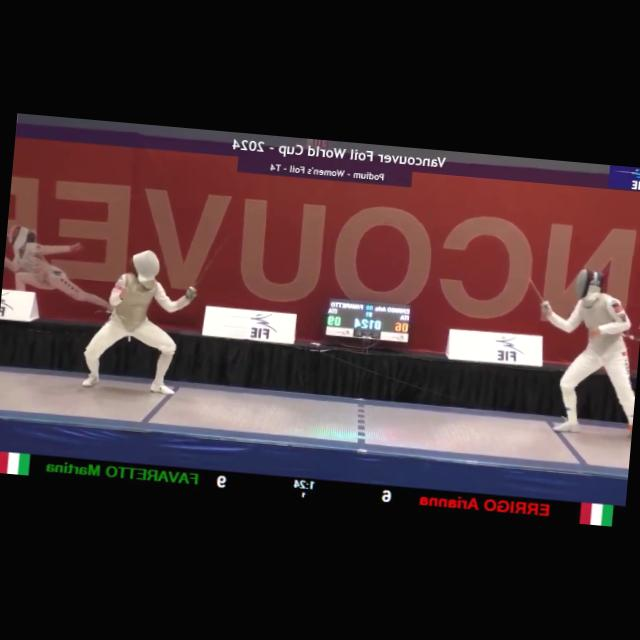blade: (184, 223, 237, 300), (517, 267, 552, 310)
